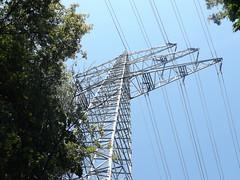power_tower: (65, 38, 225, 180)
